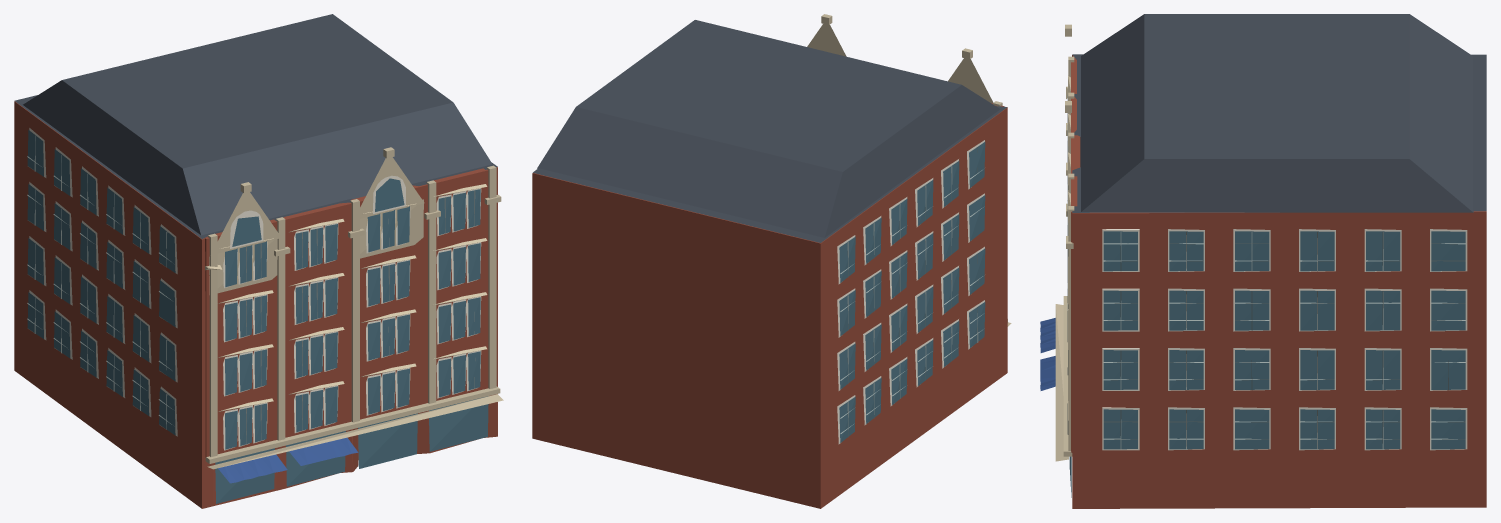
File: scheltema.lod1.glb
3 renders of one model, left to right at view 1: azimuth 30°, elevation 25°; view 2: azimuth 150°, elevation 25°; view 3: azimuth 270°, elevation 25°, orthographic. The views are drawn at different scales.
Parts seen in each view (by area): view 1: scheltema; view 2: scheltema; view 3: scheltema.
Part boxes in pixels (x1,y1,x2,y2): scheltema: [14, 14, 503, 508]; scheltema: [532, 14, 1011, 508]; scheltema: [1040, 14, 1486, 508].
Size of the model in its own units: 24.49 by 24.5 by 28.6.
